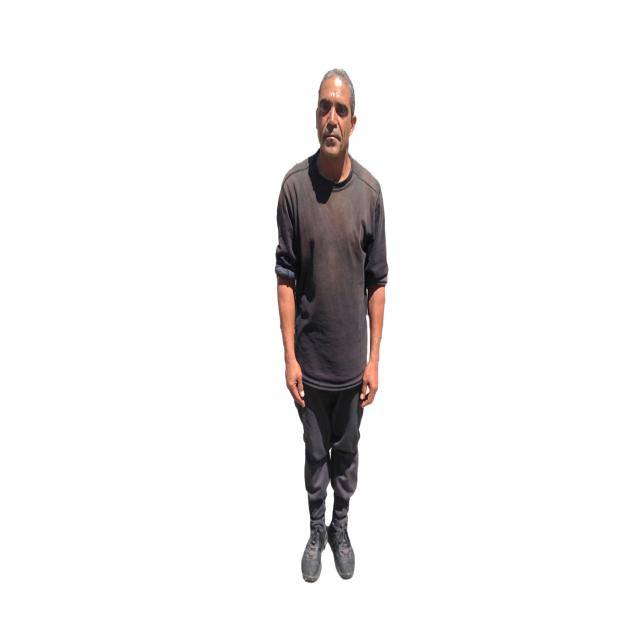jovem: (270, 59, 398, 586)
